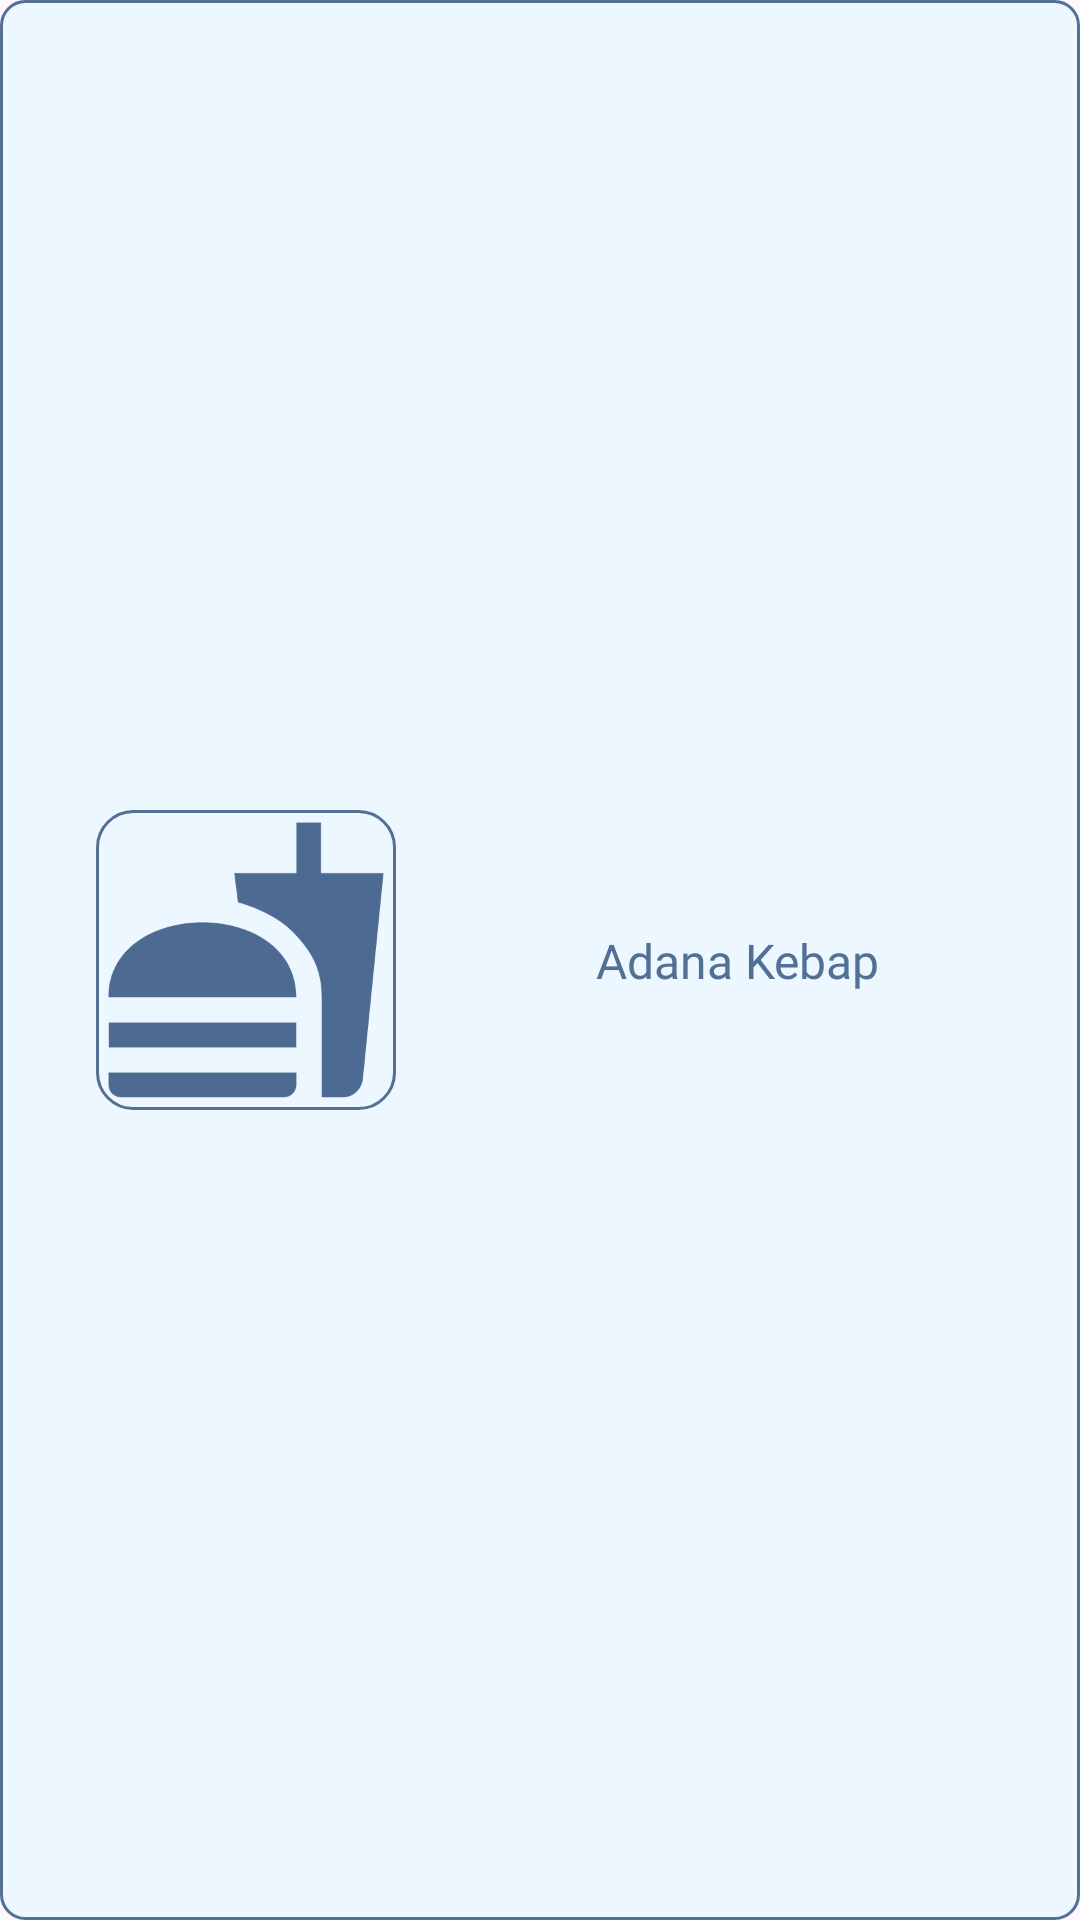

Icon click points for this 1080 x 1920 phone screenshot, format (x,y):
fastfood: (246,960)
